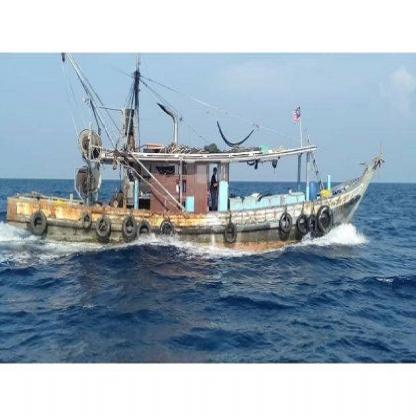boat: (4, 127, 383, 245)
